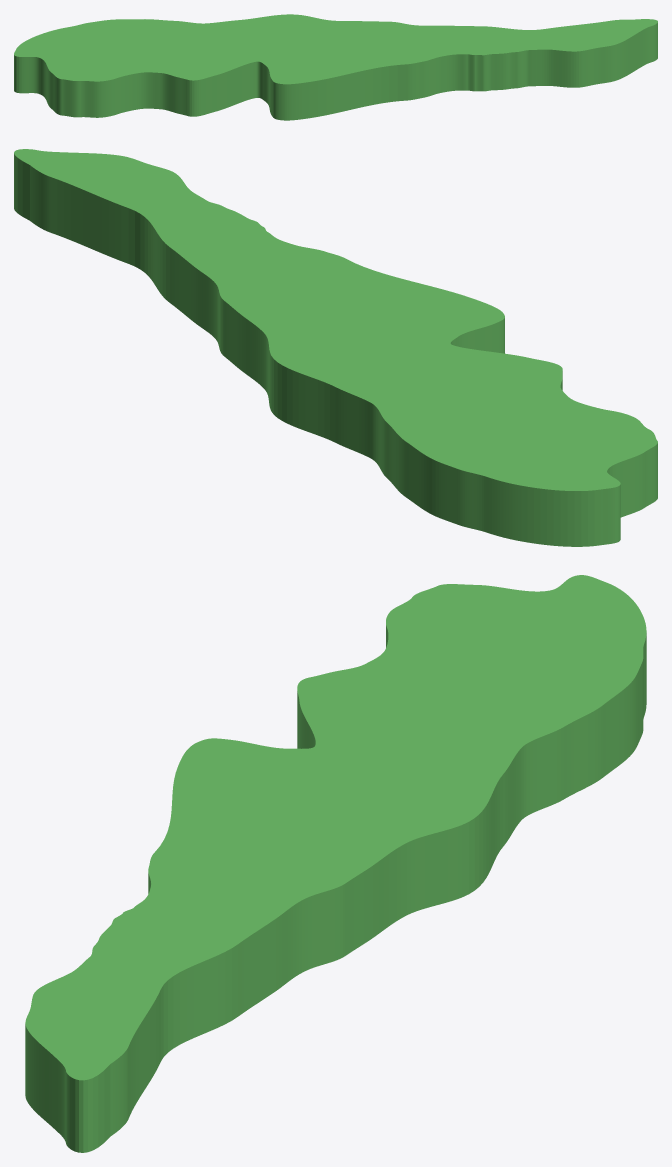
File: pulau-sumatra.fbx
3 renders of one model, top to bottom at view 1: azimuth 30°, elevation 25°; view 2: azimuth 150°, elevation 25°; view 3: azimuth 270°, elevation 25°, orthographic. The views are drawn at different scales.
Parts seen in each view (by area): view 1: sumatra; view 2: sumatra; view 3: sumatra.
Part boxes in pixels (x1=…): sumatra: x1=14, y1=14, x2=657, y2=120; sumatra: x1=14, y1=149, x2=657, y2=546; sumatra: x1=25, y1=575, x2=646, y2=1152.
Size of the model in its own units: 71.1 by 4.76 by 36.92.
